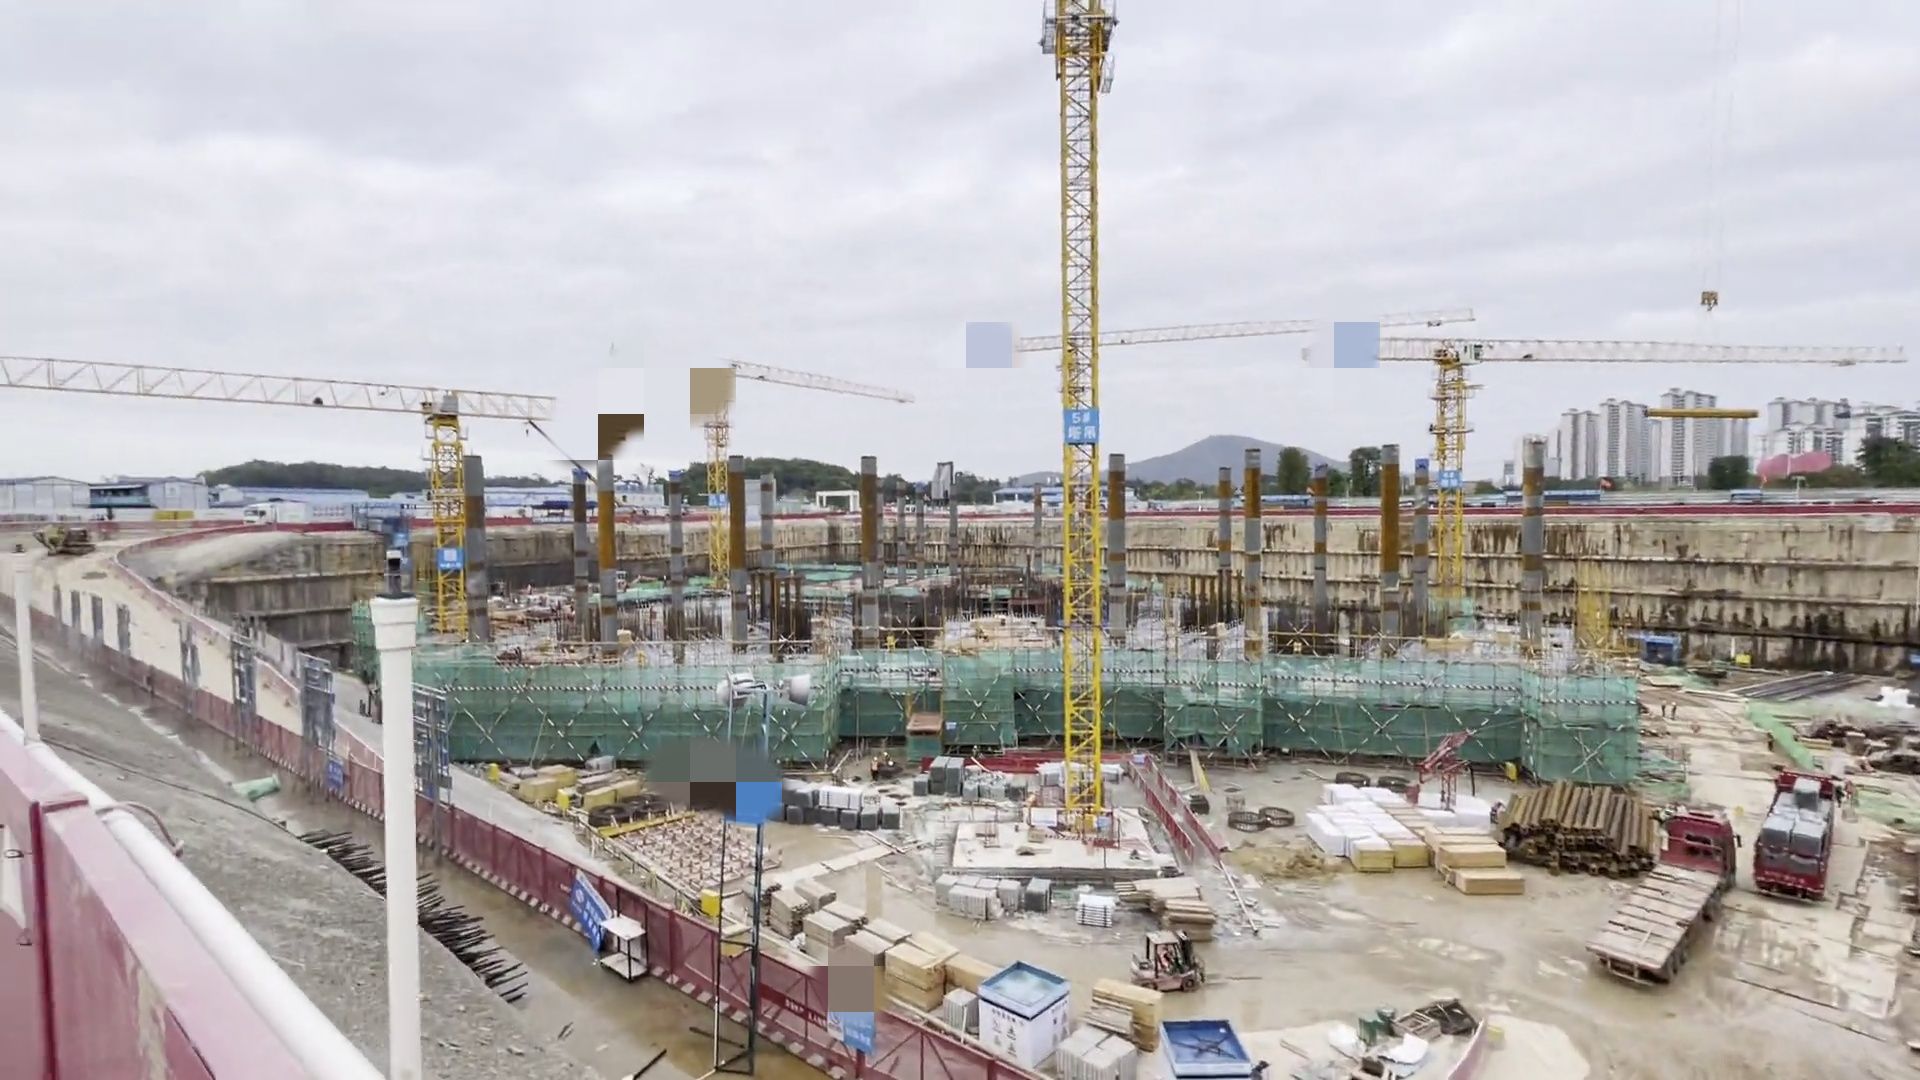board: (1429, 823, 1528, 899)
brick: (945, 860, 1067, 928), (986, 893, 1007, 920)
ebox: (687, 895, 745, 944), (545, 789, 585, 822), (481, 764, 518, 798)
fence: (237, 717, 1031, 1080), (1098, 727, 1232, 862)
scaffold: (785, 782, 909, 833), (1072, 880, 1124, 936), (1040, 760, 1121, 793), (913, 760, 965, 800)
slogan: (816, 992, 889, 1064), (572, 864, 620, 952), (1062, 402, 1106, 446), (318, 745, 351, 802), (430, 542, 465, 575), (702, 484, 729, 518), (382, 524, 410, 550)
wood: (764, 872, 981, 1015), (1134, 876, 1265, 989)
